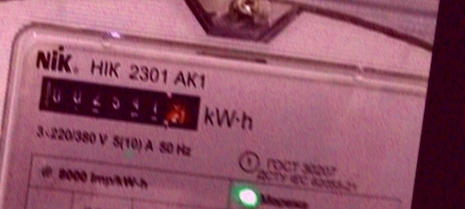0: (48, 80, 64, 103), (69, 81, 84, 103)
1: (147, 93, 161, 114)
2: (89, 85, 104, 106)
4: (129, 89, 143, 112)
5: (108, 86, 122, 110)
6: (168, 108, 181, 124)
screen: (26, 63, 213, 141)
